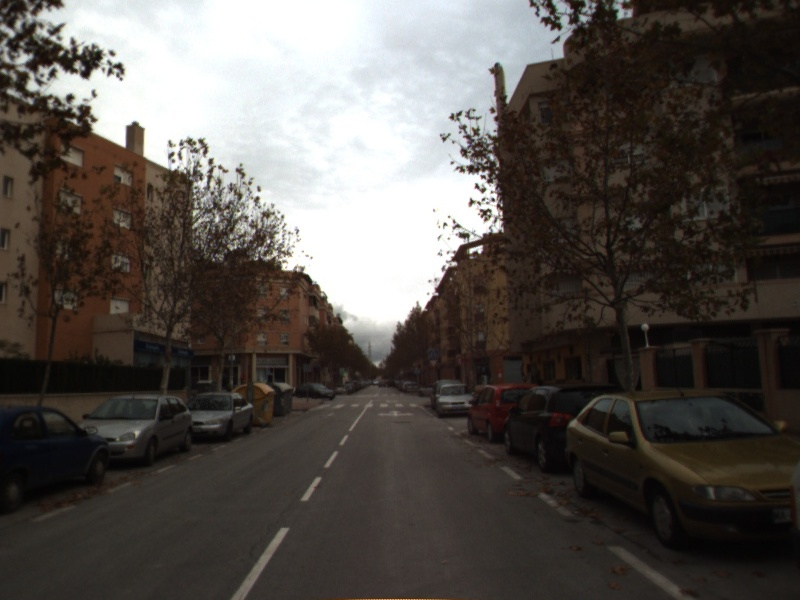STRAIGHT_LEFT_RIGHT: (375, 407, 417, 419)
